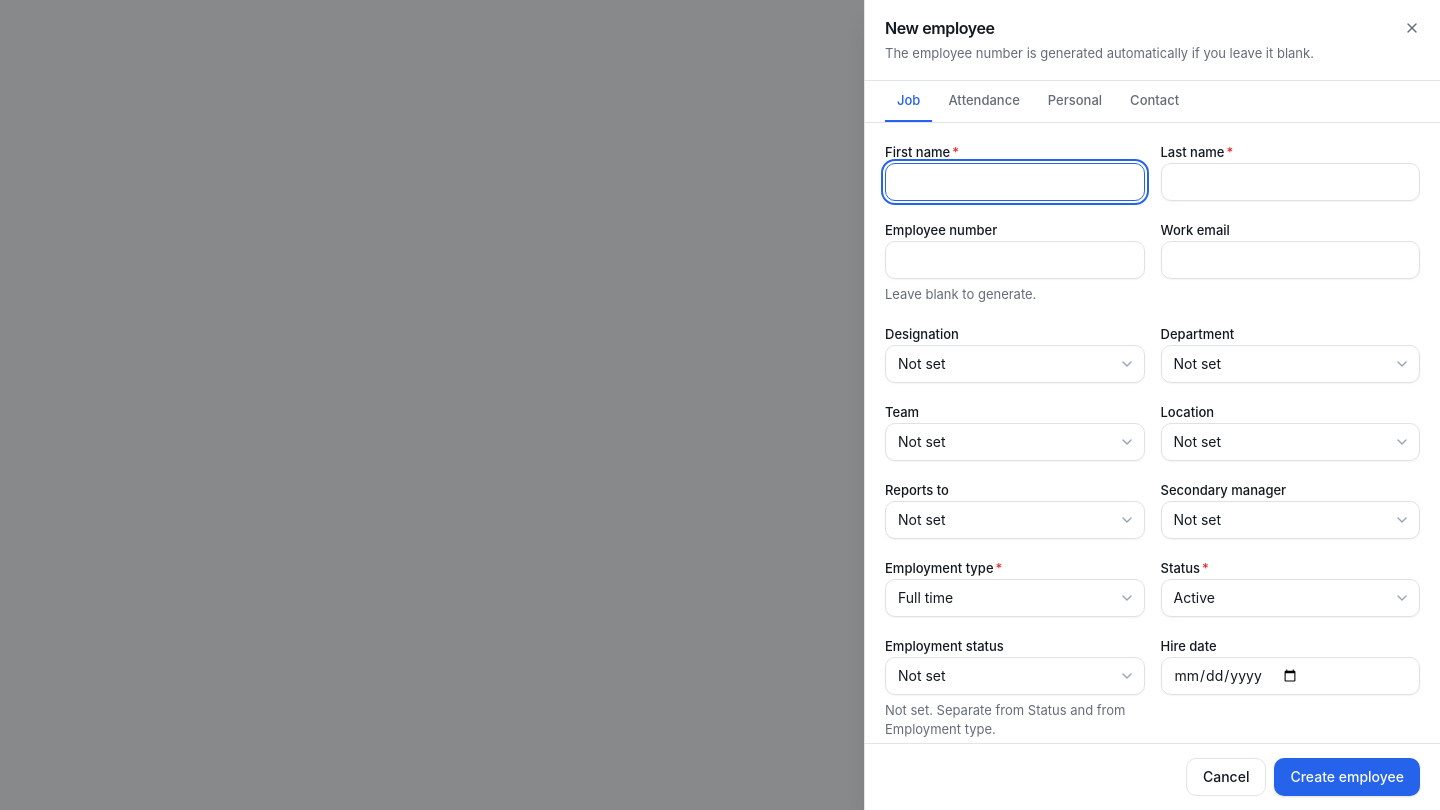
Test: creating an employee › offers the punch code while the employee is being created, not afterwards
Click the button "Attendance". click: [984, 101]
box: [936,80,1032,122]
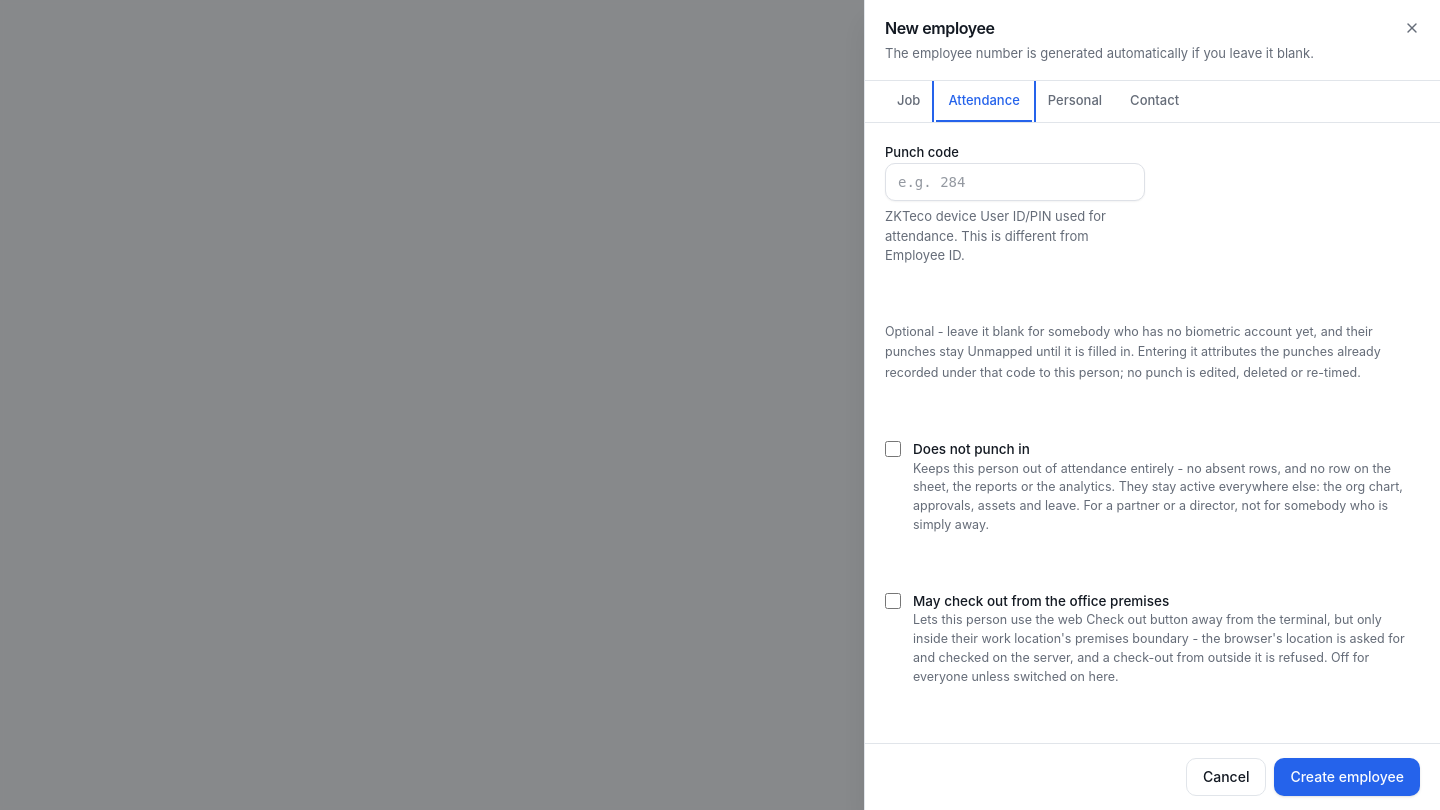
Now the field labelled "Punch code" is shown, box [885,163,1144,201]
Now the text "different from Employee ID" is shown, box [885,208,1106,263]
